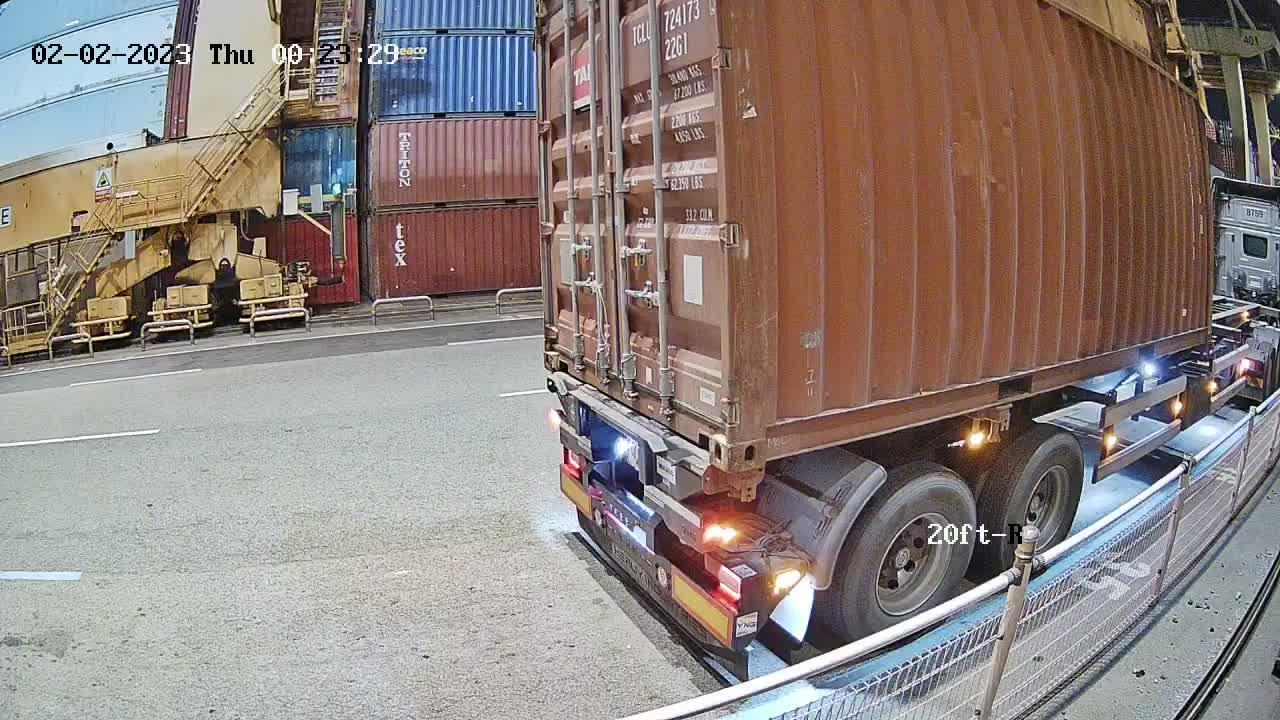Chassis: (546, 375, 758, 499)
Cone: (718, 466, 765, 502)
Hole_L: (728, 385, 801, 473), (541, 326, 579, 381)
Hole_R: (682, 381, 730, 471)
Tire: (842, 471, 979, 654), (1000, 434, 1087, 580)
